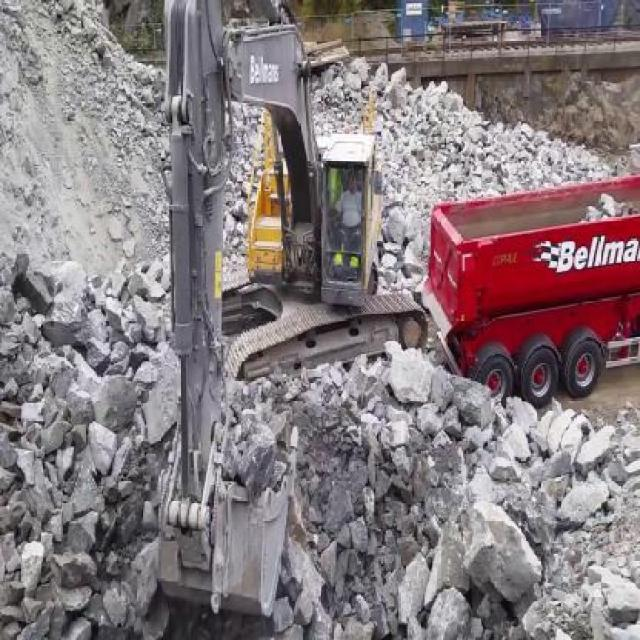dump_truck: (424, 170, 639, 405)
excavator: (148, 0, 430, 618)
